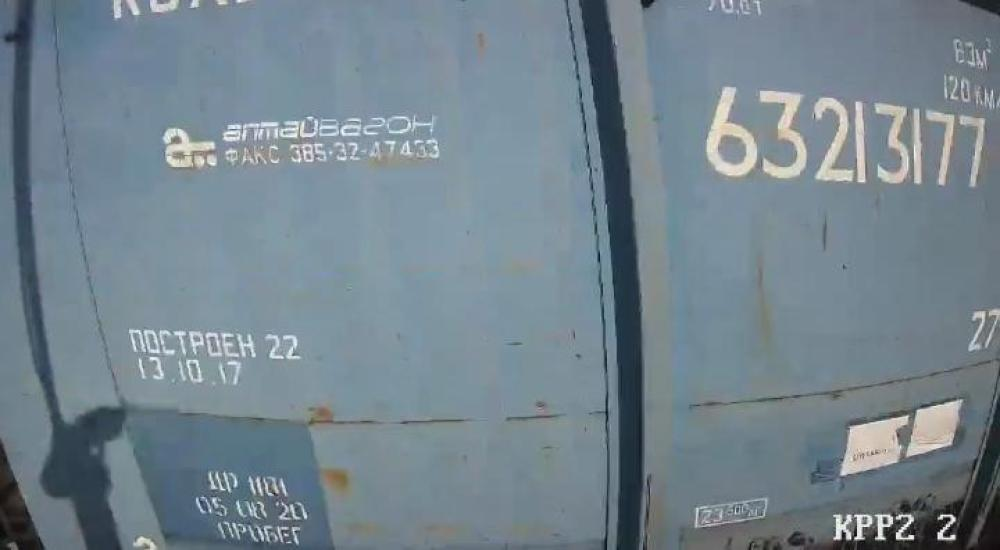Wagon-number: (698, 79, 985, 194)
